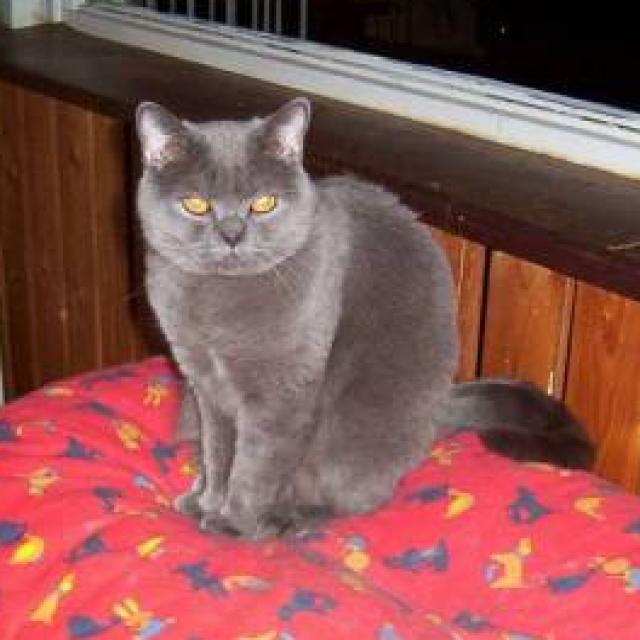British Shorthair: (130, 93, 596, 540)
